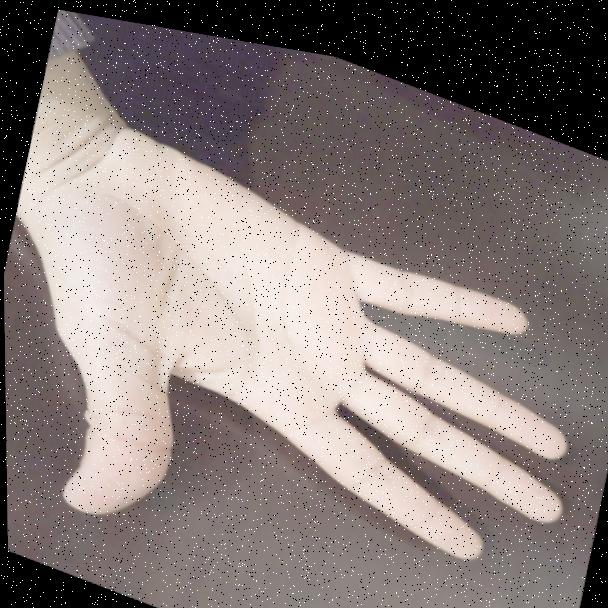five: (14, 113, 601, 608)
